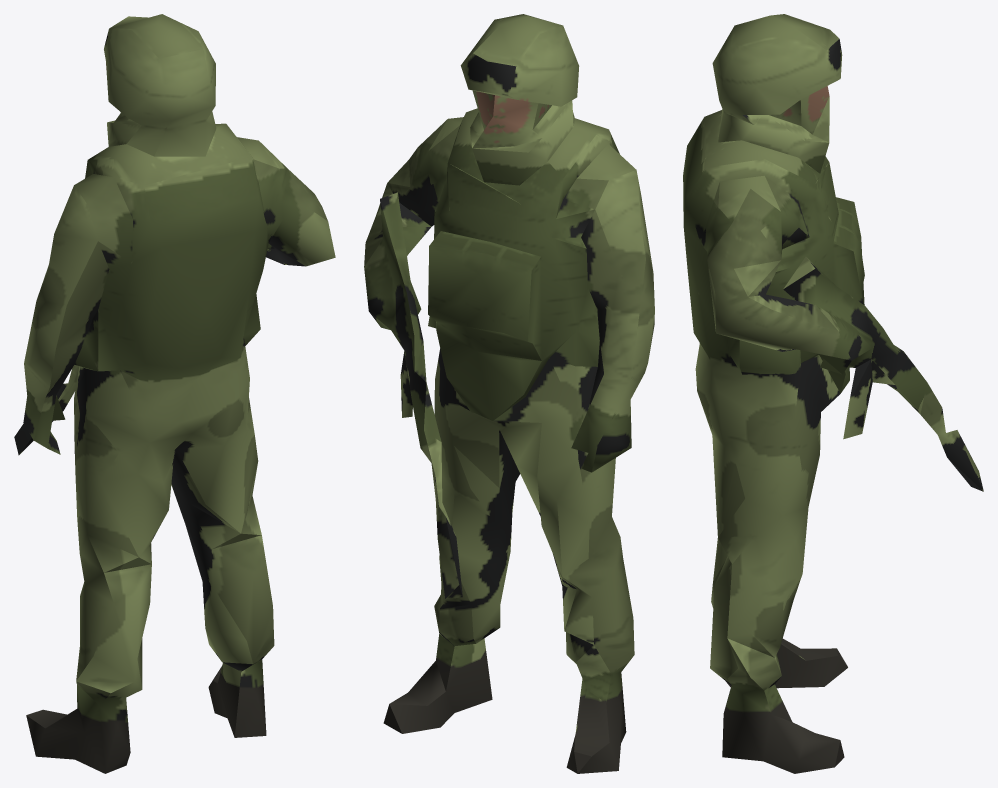
File: rifle_soldier.glb
The picture shows the model from 3 angles, left to right: view 1: azimuth 30°, elevation 25°; view 2: azimuth 150°, elevation 25°; view 3: azimuth 270°, elevation 25°; orthographic projection.
Parts seen in each view (by area): view 1: rifle_soldier; view 2: rifle_soldier; view 3: rifle_soldier.
Part boxes in pixels (x1,y1,x2,y2): rifle_soldier: (14,14,335,773); rifle_soldier: (364,14,654,773); rifle_soldier: (683,14,983,773).
Bounding box in the file's own units: 0.0917 × 0.225 × 0.087.
Materials: 1 (1 with a texture image).
